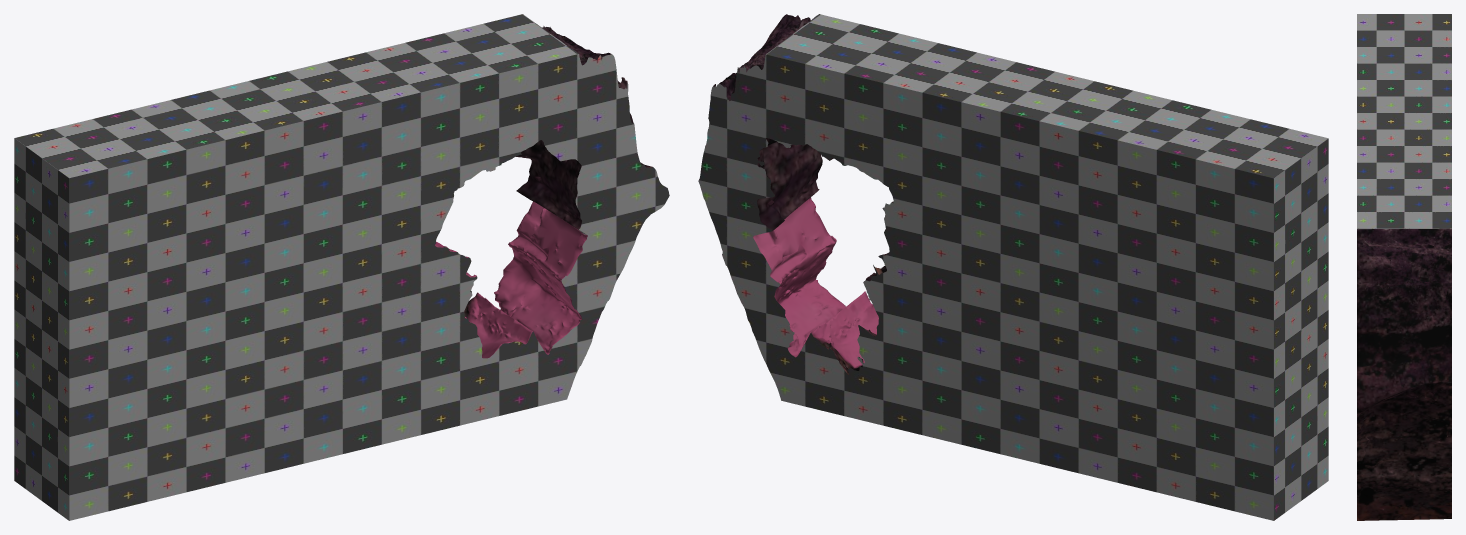
File: wall04.glb
3 renders of one model, left to right at view 1: azimuth 30°, elevation 25°; view 2: azimuth 150°, elevation 25°; view 3: azimuth 270°, elevation 25°, orthographic. The views are drawn at different scales.
Parts seen in each view (by area): view 1: Wall.004; view 2: Wall.004; view 3: Wall.004.
Boxes of the visible parts, box(x1,y1,x2,y2) form: Wall.004: box(14, 14, 669, 520); Wall.004: box(698, 14, 1328, 520); Wall.004: box(1357, 14, 1451, 520).
Bounding box in the file's own units: 2.96 × 1.61 × 0.468.
2 materials, 2 textured.
